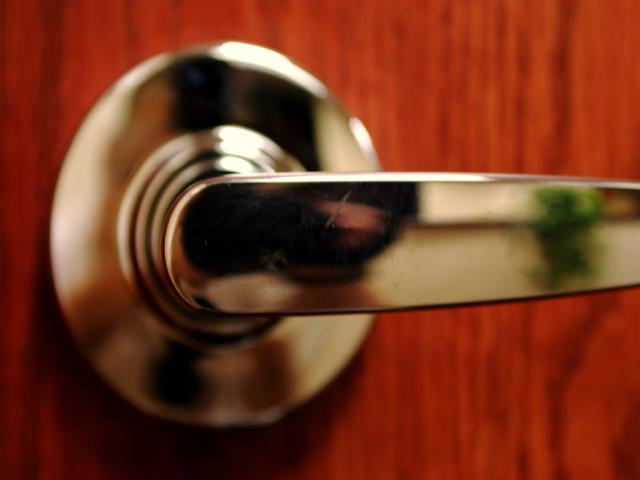Door-handle: (46, 39, 640, 428)
